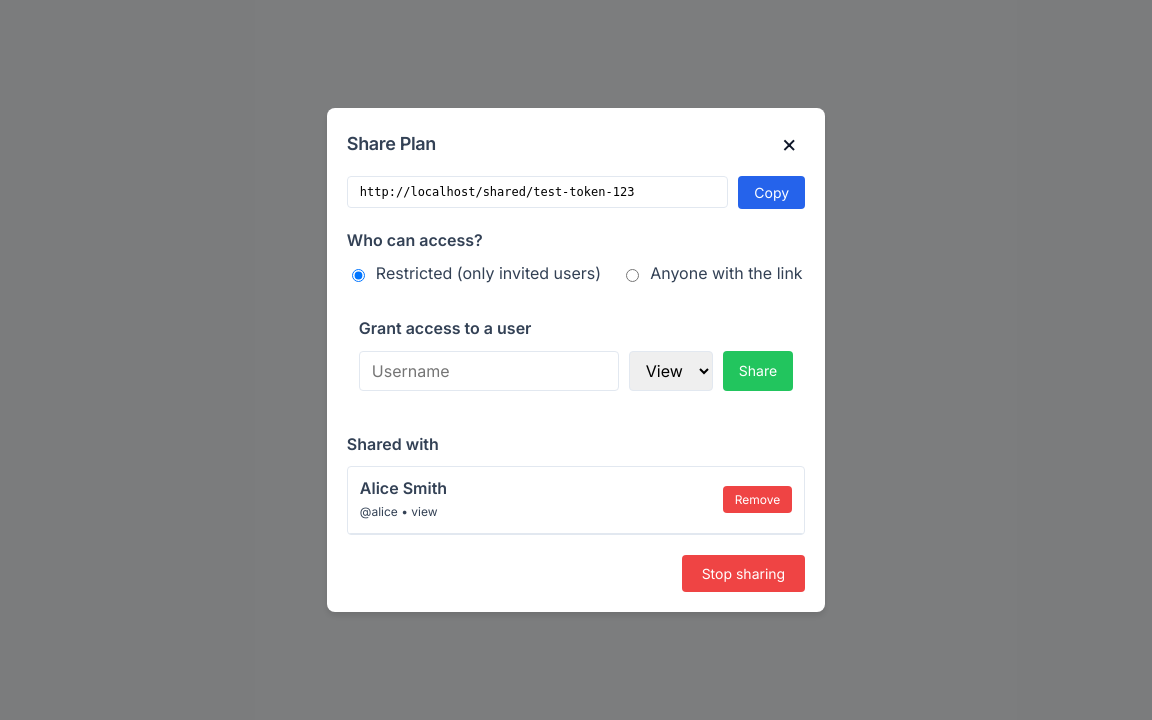
Test: ShareDialog › shows inline error message when granting to non-existent user (404)
Expected: the field showing "/shared/test-token-123" is shown, left=347, top=176, right=728, bottom=208
Type "nonexistent" into the field with placeholder "Username" at (489, 370), box left=359, top=350, right=619, bottom=390
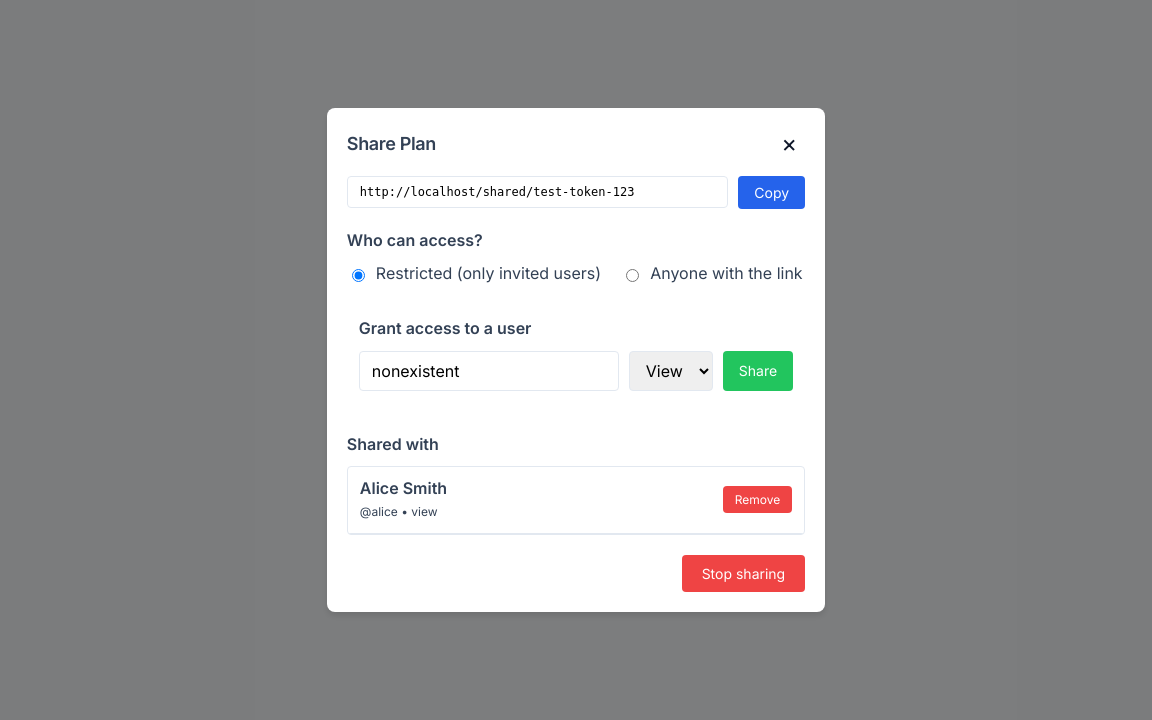
Click the button "Share" at (758, 370), box left=723, top=350, right=793, bottom=390
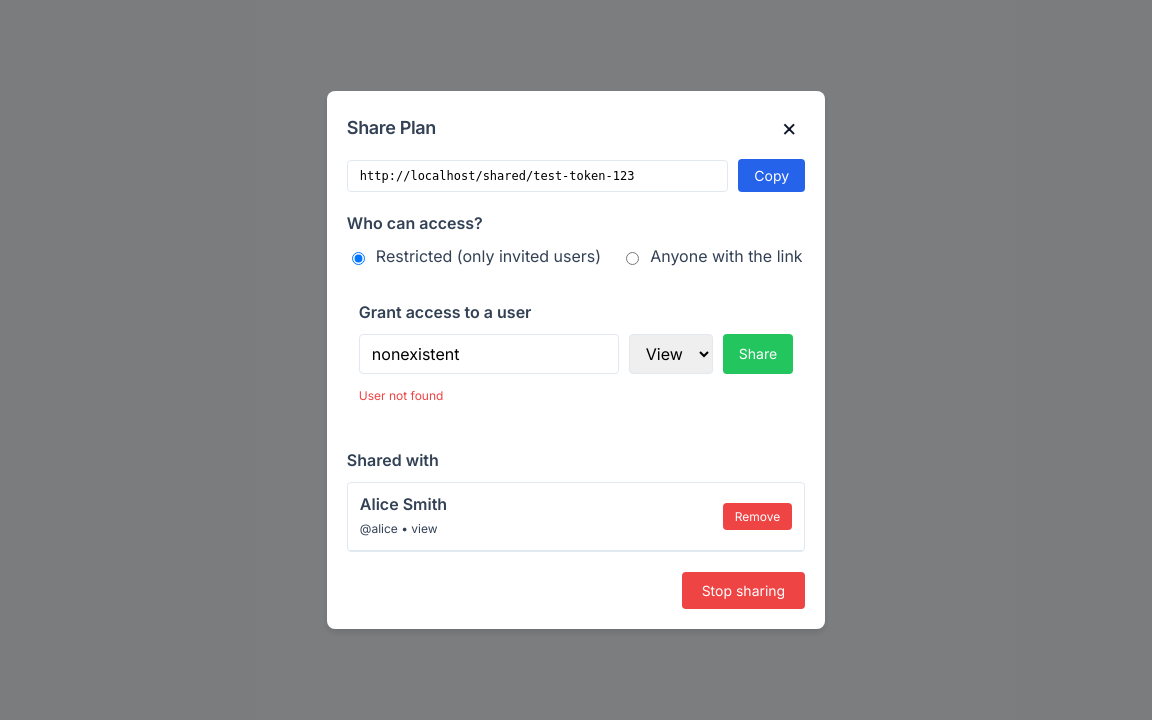
Expected: the text "User not found" is shown, left=359, top=388, right=443, bottom=403
